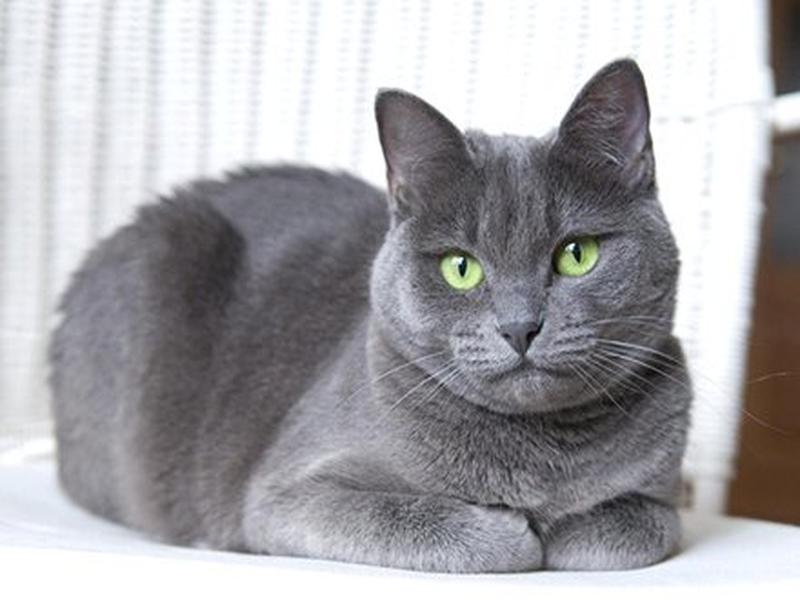cat: (46, 58, 700, 573)
